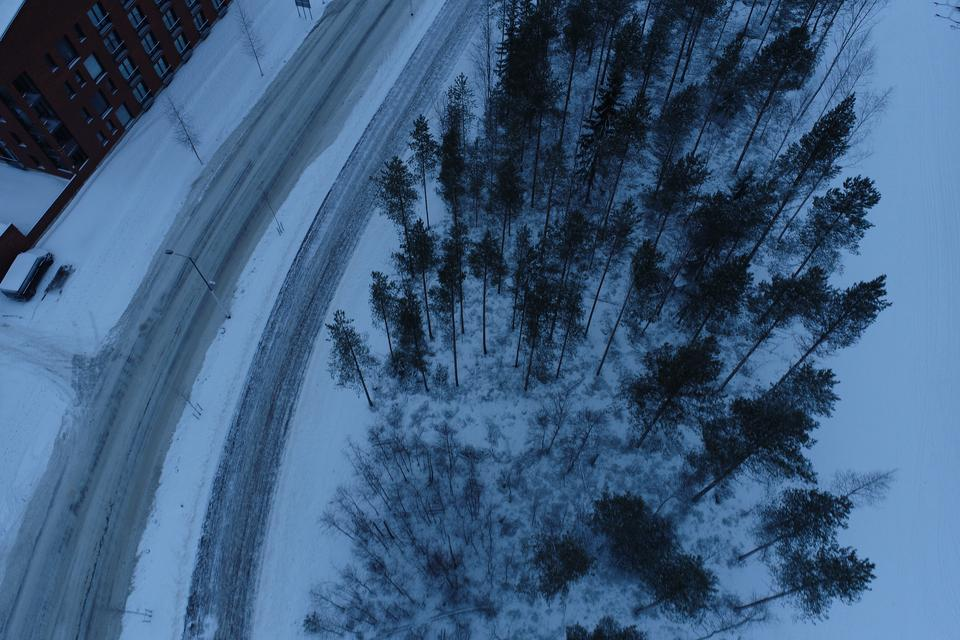intersection: (29, 314, 344, 473)
